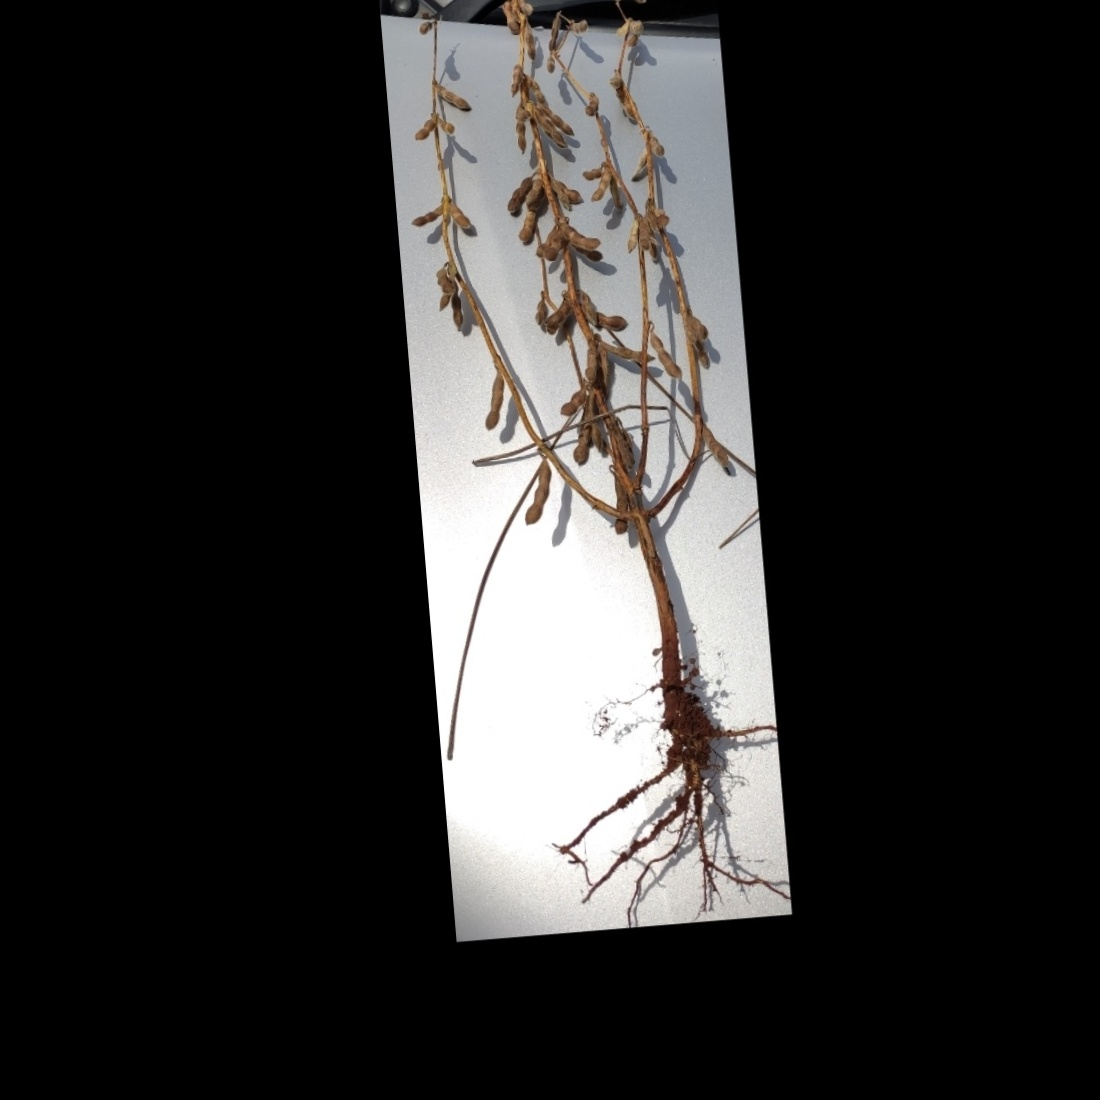pod: (516, 459, 558, 531), (475, 370, 510, 434), (648, 325, 685, 382), (534, 106, 569, 153), (435, 78, 477, 117), (501, 170, 538, 214), (701, 419, 732, 470), (557, 382, 594, 418), (541, 294, 578, 328), (585, 164, 614, 205), (404, 200, 446, 229), (406, 113, 438, 147), (522, 14, 544, 63), (542, 11, 565, 54), (687, 307, 715, 341), (616, 0, 648, 6)
soy: (379, 0, 766, 888)
